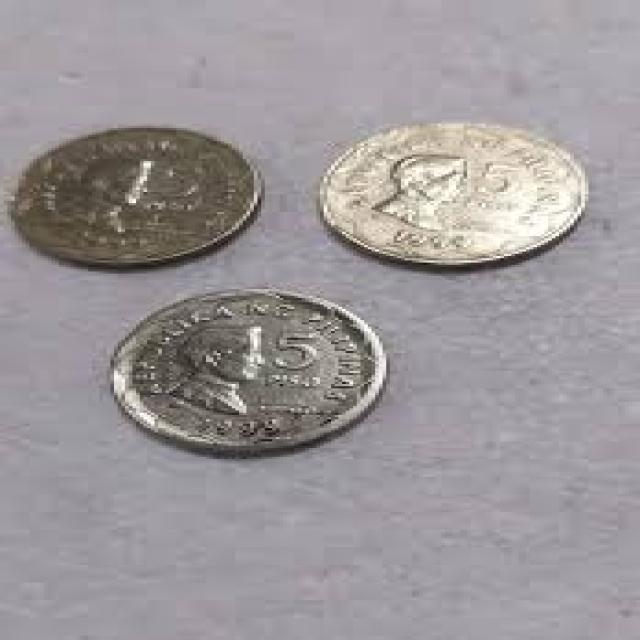5 peso-old: (110, 282, 396, 459), (311, 112, 599, 276), (8, 119, 270, 276)
